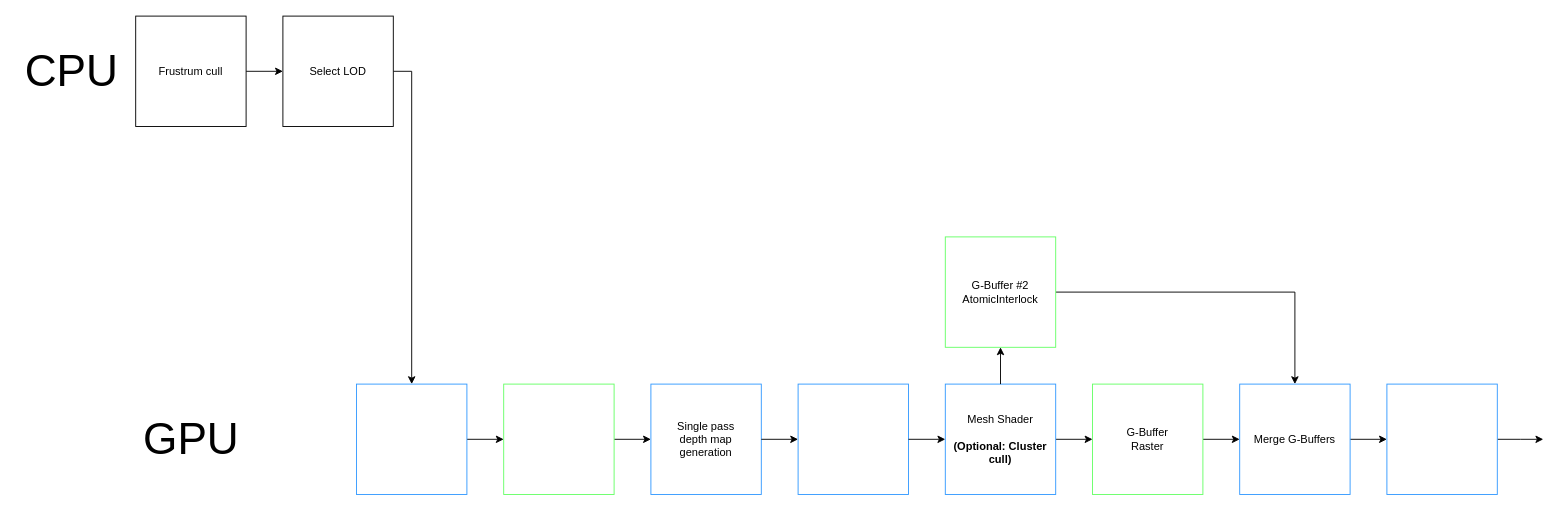
Image size: 1567x511. Some labels were removed from this diagram. The centre of each missing label's shape, as x and y in pixels:
Depth map: (x=558, y=438)
Mesh Shader Occluder render: (x=411, y=438)
Recompute world positions + normals: (x=1441, y=438)
Task Shader Hi-Z cull AABB of a molecule: (x=852, y=438)
